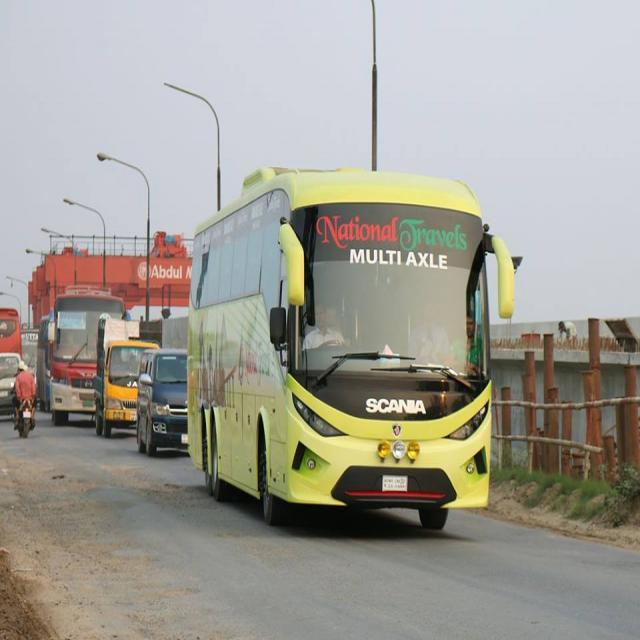bus: (186, 165, 518, 532)
